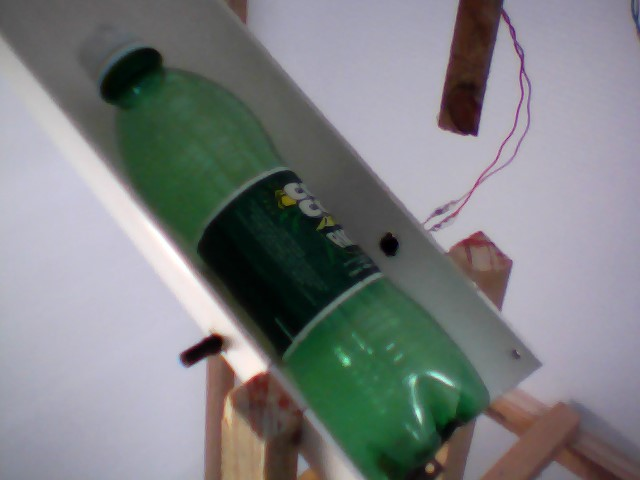plastico: (80, 16, 499, 480)
